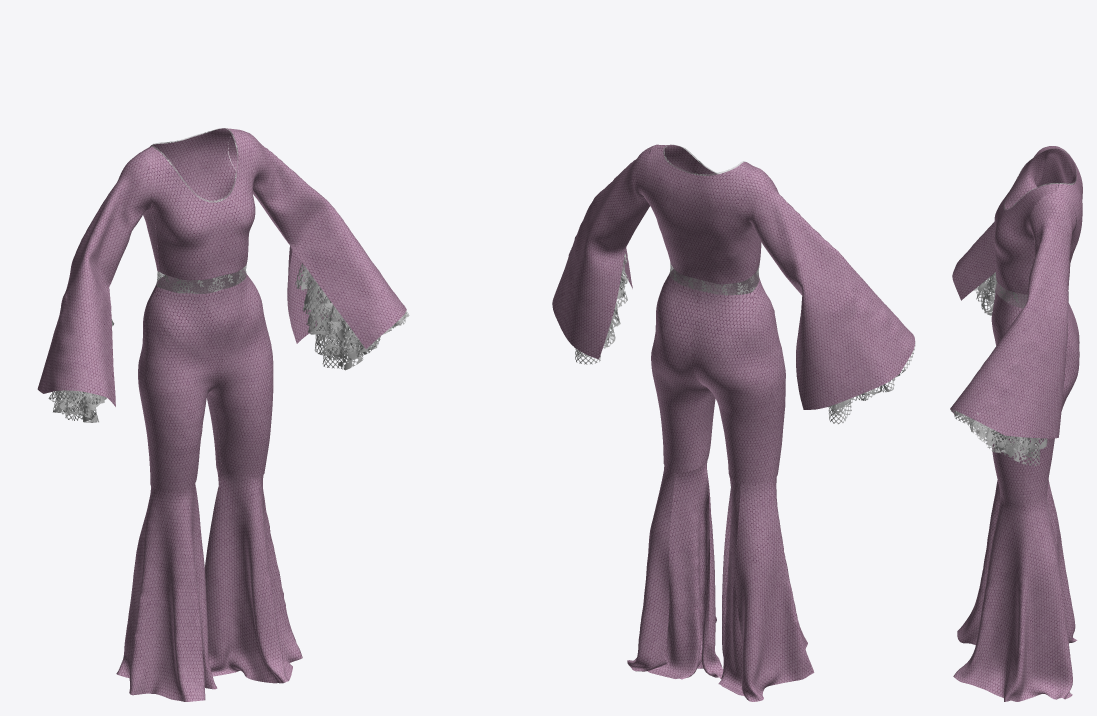
Rendered from Jumpsuit.glb.
The picture shows the model from 3 angles, left to right: view 1: azimuth 30°, elevation 25°; view 2: azimuth 150°, elevation 25°; view 3: azimuth 270°, elevation 25°; orthographic projection. The views are drawn at different scales.
Parts seen in each view (by area): view 1: Jumpsuit; view 2: Jumpsuit; view 3: Jumpsuit.
Part boxes in pixels (left/top/right/bottom): Jumpsuit: left=37, top=128, right=409, bottom=701; Jumpsuit: left=552, top=144, right=915, bottom=701; Jumpsuit: left=950, top=146, right=1082, bottom=701.
Bounding box in the file's own units: 1.12 × 1.56 × 0.3174.
3 materials, 2 textured.
